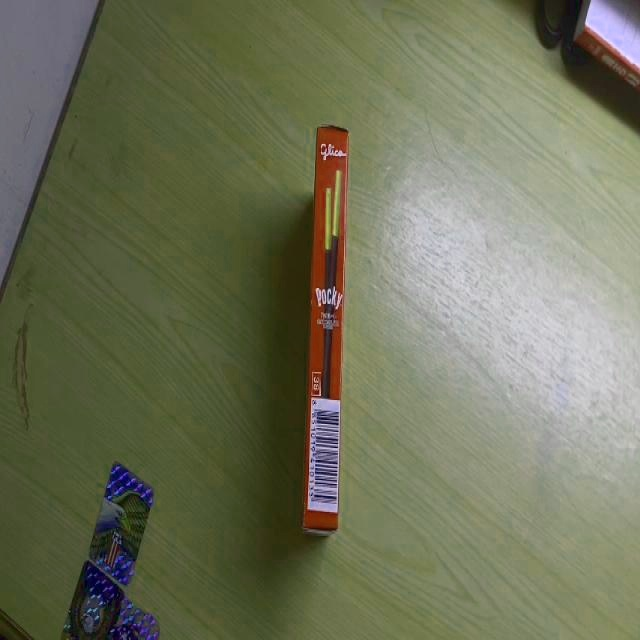Pocky: (302, 124, 350, 536)
